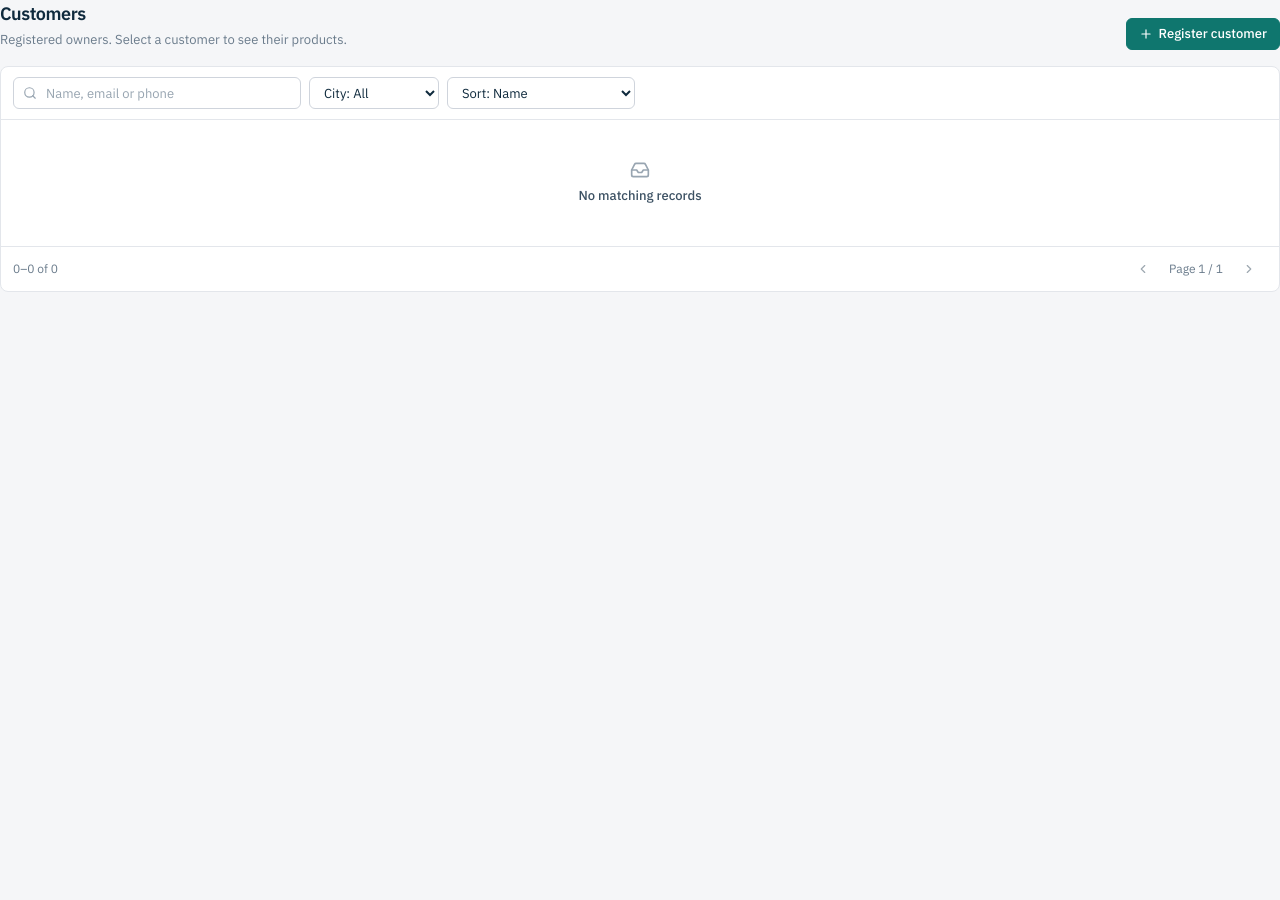
Test: Customers › validates the customer form before submitting
The width and height of the screenshot is (1280, 900).
Step 1. Click the button "Register customer" → (1203, 34), box top-left (1126, 18), bottom-right (1279, 50)
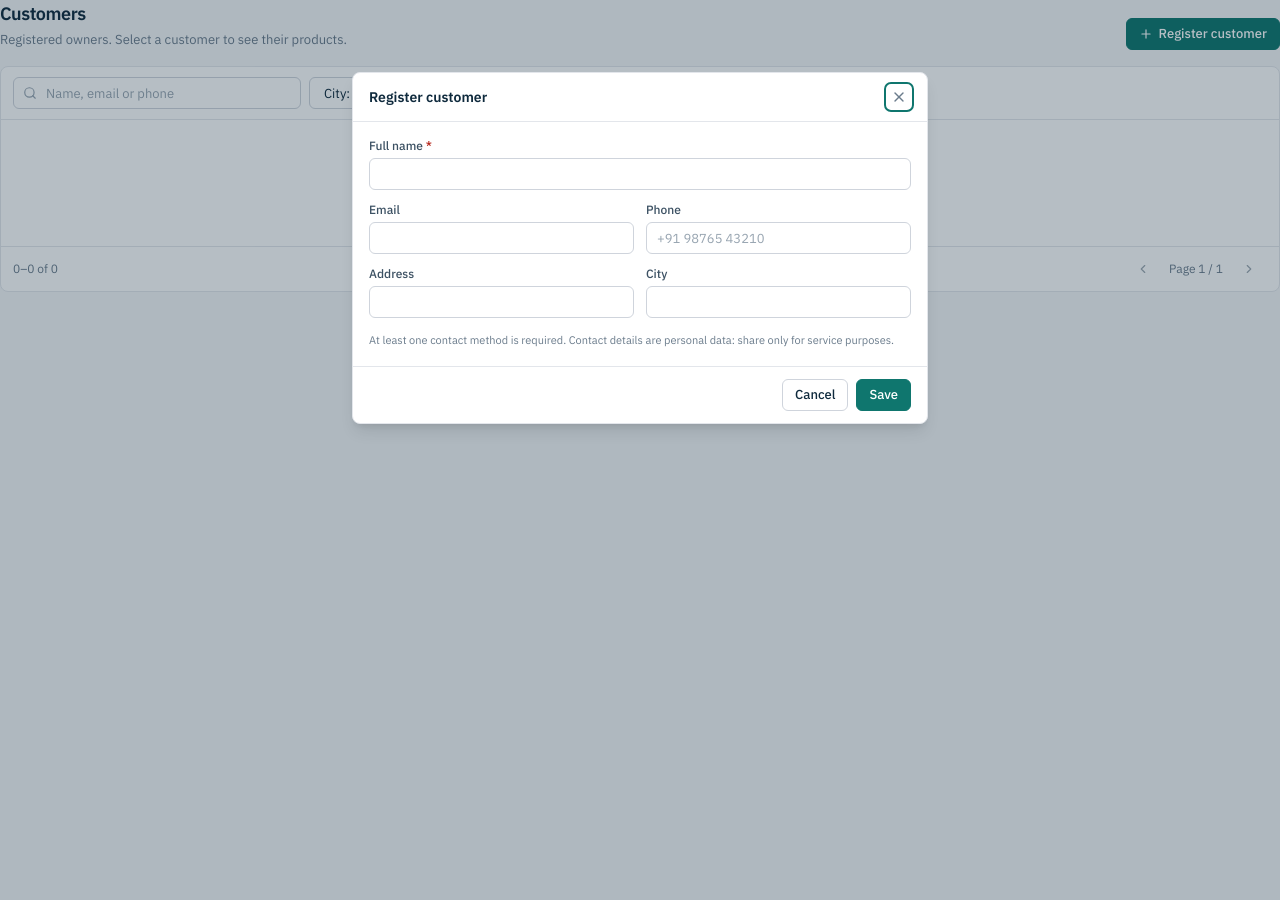
Step 2. Type "A" into the field labelled "Full name *" → (640, 174), box top-left (369, 158), bottom-right (911, 190)
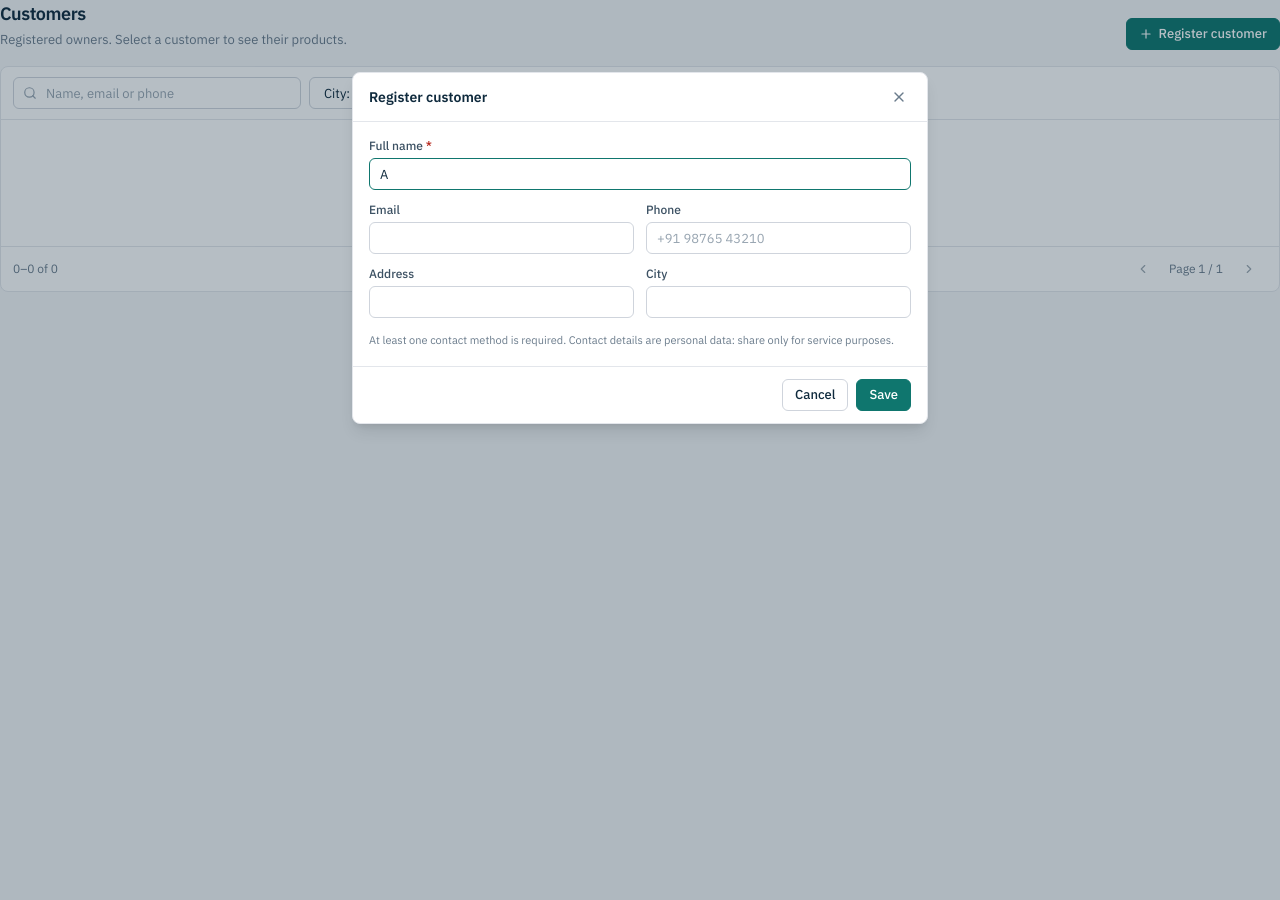
Step 3. Click the button "Save" → (884, 395), box top-left (856, 379), bottom-right (911, 411)
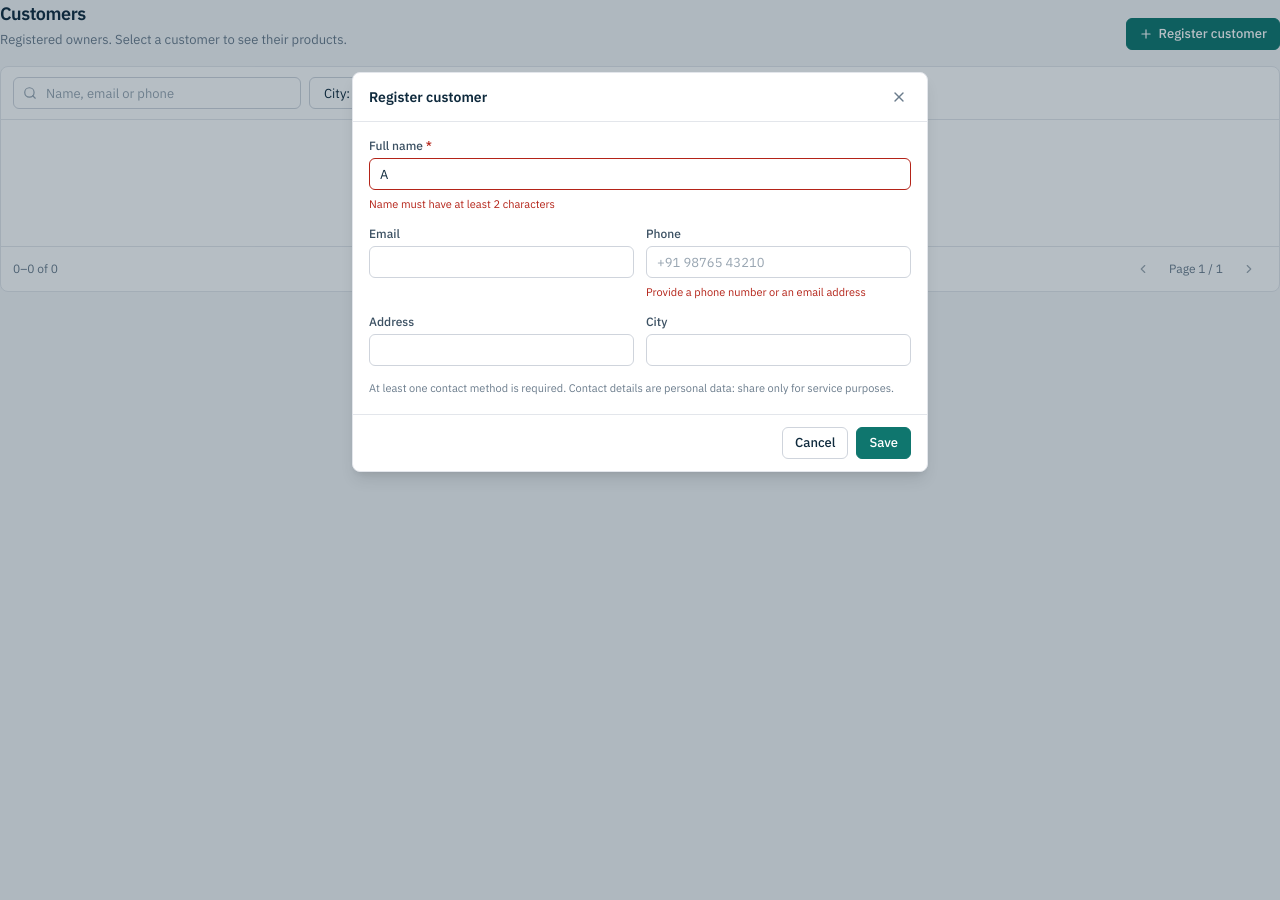
expect the text "Name must have at least 2 characters" is shown: met, box top-left (369, 197), bottom-right (555, 211)
expect the text "Provide a phone number or an email address" is shown: met, box top-left (646, 285), bottom-right (866, 299)
